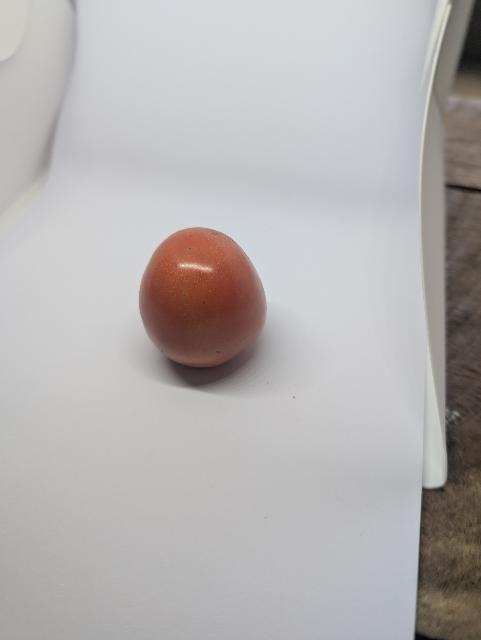red: (134, 217, 280, 380)
